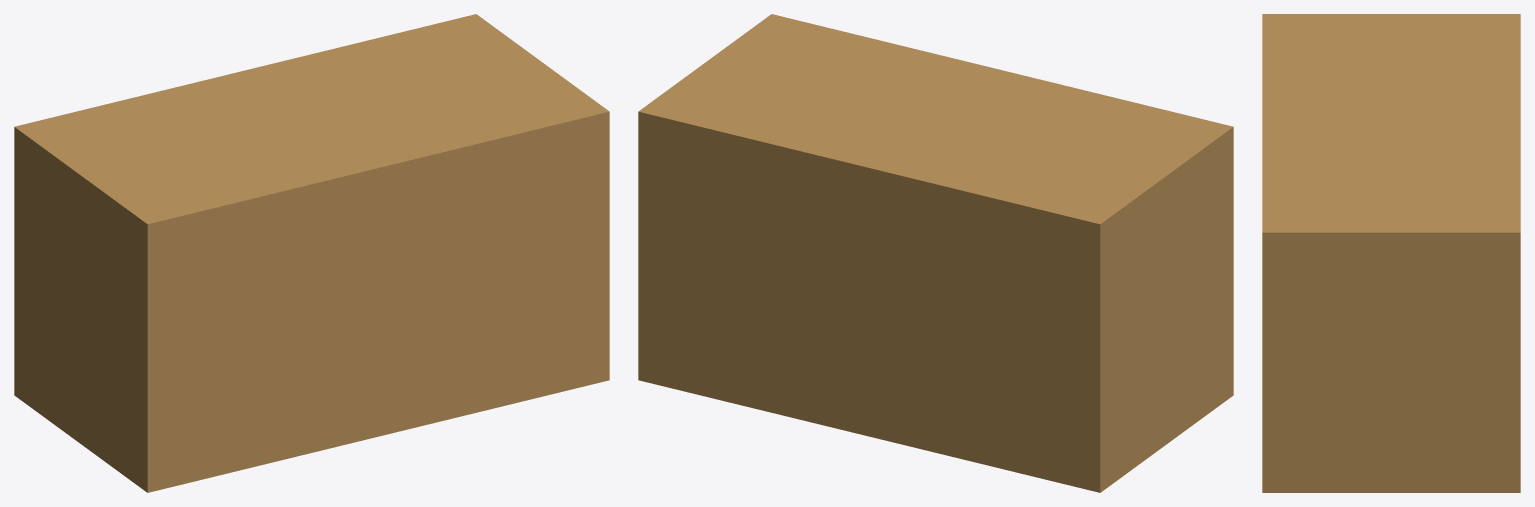
The picture shows the model from 3 angles, left to right: view 1: azimuth 30°, elevation 25°; view 2: azimuth 150°, elevation 25°; view 3: azimuth 270°, elevation 25°; orthographic projection. The views are drawn at different scales.
Visible parts, largest first — view 1: RUN-087-S00-STUD-00-p3; view 2: RUN-087-S00-STUD-00-p3; view 3: RUN-087-S00-STUD-00-p3.
Part boxes in pixels (x1,y1,x2,y2): RUN-087-S00-STUD-00-p3: [14, 14, 609, 492]; RUN-087-S00-STUD-00-p3: [638, 14, 1233, 492]; RUN-087-S00-STUD-00-p3: [1262, 14, 1520, 492].
Bounding box in the file's own units: 0.09 × 0.05 × 0.045.
